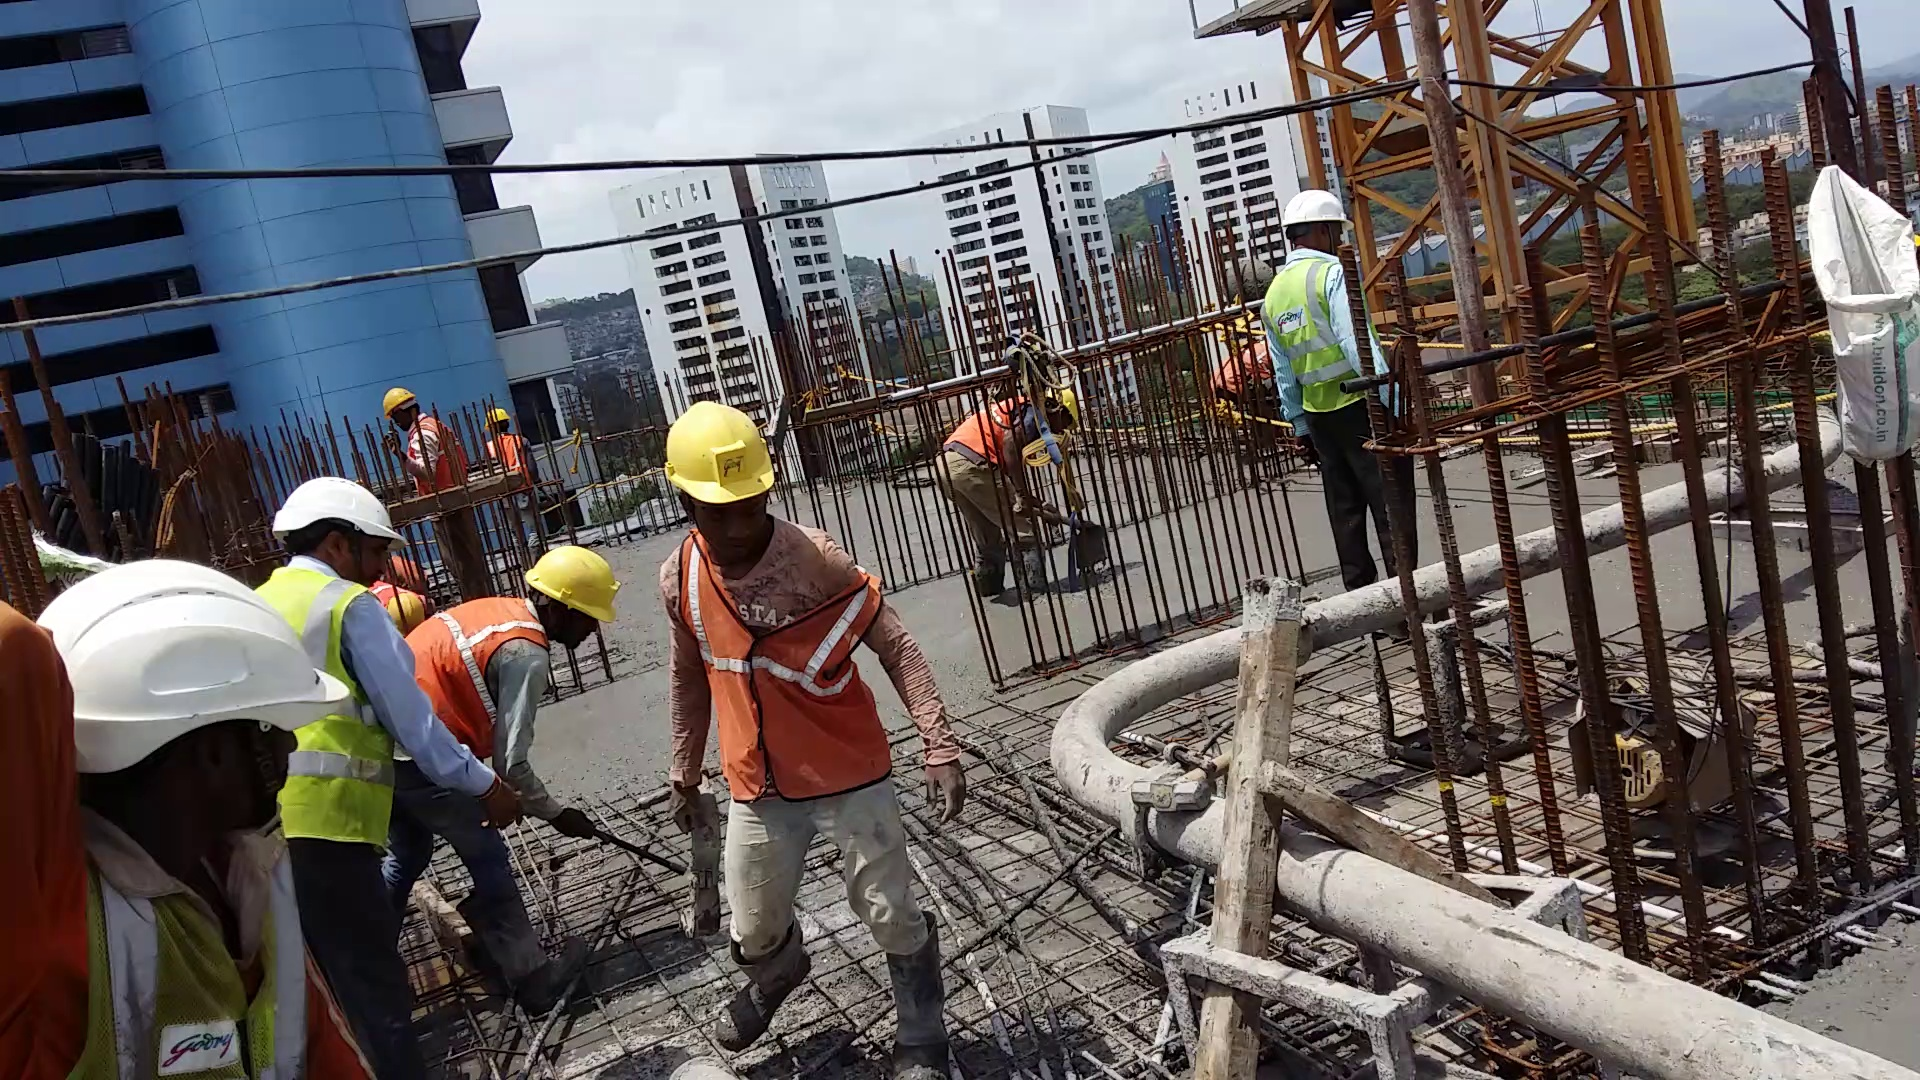SAFE: (74, 547, 295, 1080), (653, 392, 844, 804), (286, 469, 398, 844), (423, 549, 618, 754), (1265, 189, 1356, 426)
